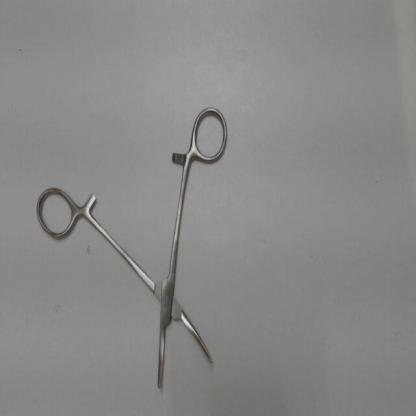Crile Artery Forceps: (31, 102, 233, 394)
